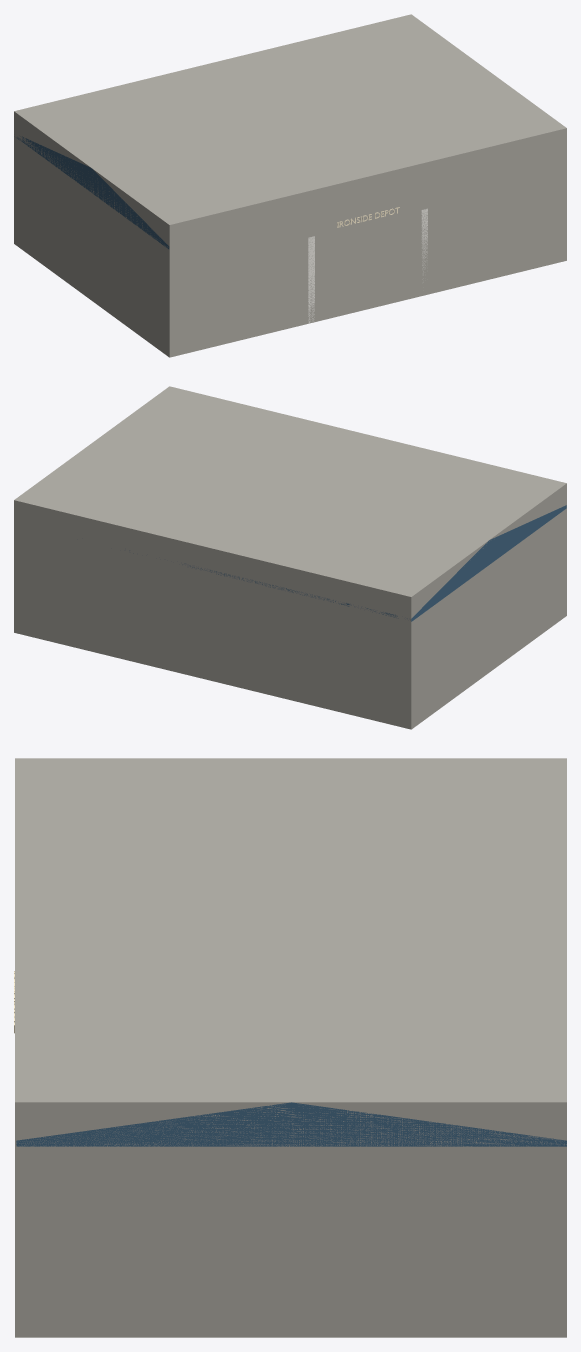
Rendered from BLD_Warehouse_A.fbx.
3 renders of one model, top to bottom at view 1: azimuth 30°, elevation 25°; view 2: azimuth 150°, elevation 25°; view 3: azimuth 270°, elevation 25°, orthographic. The views are drawn at different scales.
Visible parts, largest first — view 1: BLD_Warehouse_A__COL_Main, BLD_Warehouse_A__BODY; view 2: BLD_Warehouse_A__COL_Main, BLD_Warehouse_A__BODY; view 3: BLD_Warehouse_A__COL_Main, BLD_Warehouse_A__BODY.
Boxes of the visible parts, x1=… form: BLD_Warehouse_A__COL_Main: x1=14, y1=14, x2=566, y2=357; BLD_Warehouse_A__BODY: x1=14, y1=136, x2=427, y2=323; BLD_Warehouse_A__COL_Main: x1=14, y1=386, x2=566, y2=729; BLD_Warehouse_A__BODY: x1=129, y1=505, x2=566, y2=621; BLD_Warehouse_A__COL_Main: x1=15, y1=758, x2=566, y2=1337; BLD_Warehouse_A__BODY: x1=16, y1=1102, x2=566, y2=1146.
Bounding box in the file's own units: 30.9 × 9.85 × 20.99.
